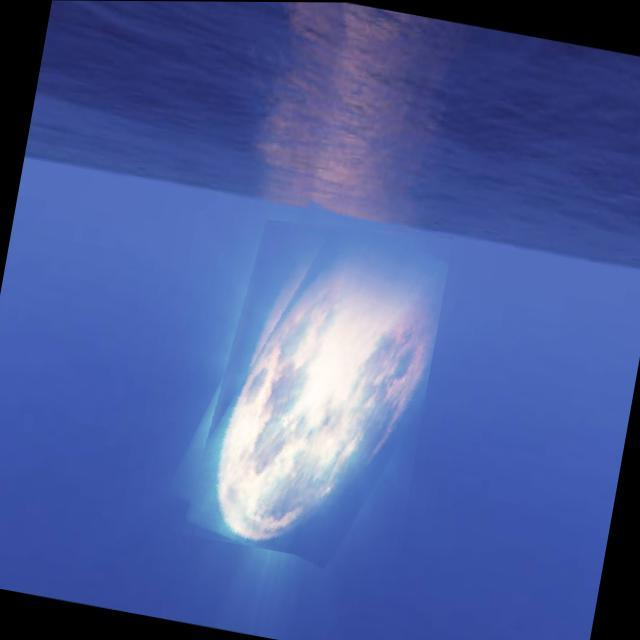moon: (180, 195, 453, 572)
